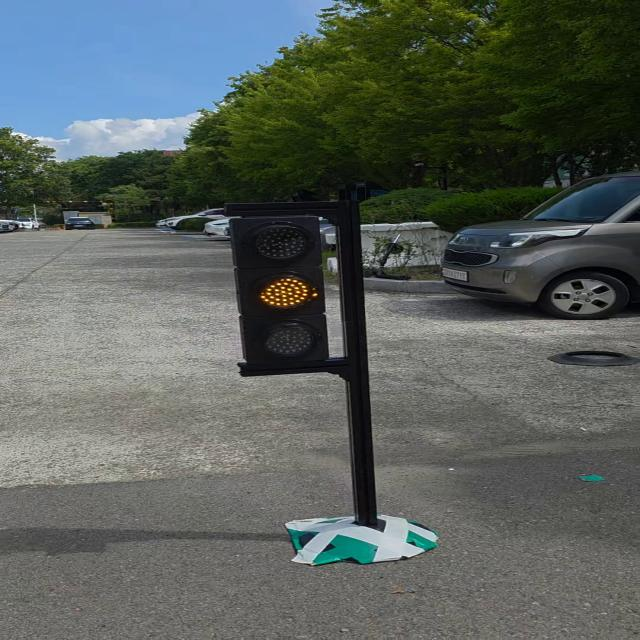yellow: (233, 214, 333, 370)
